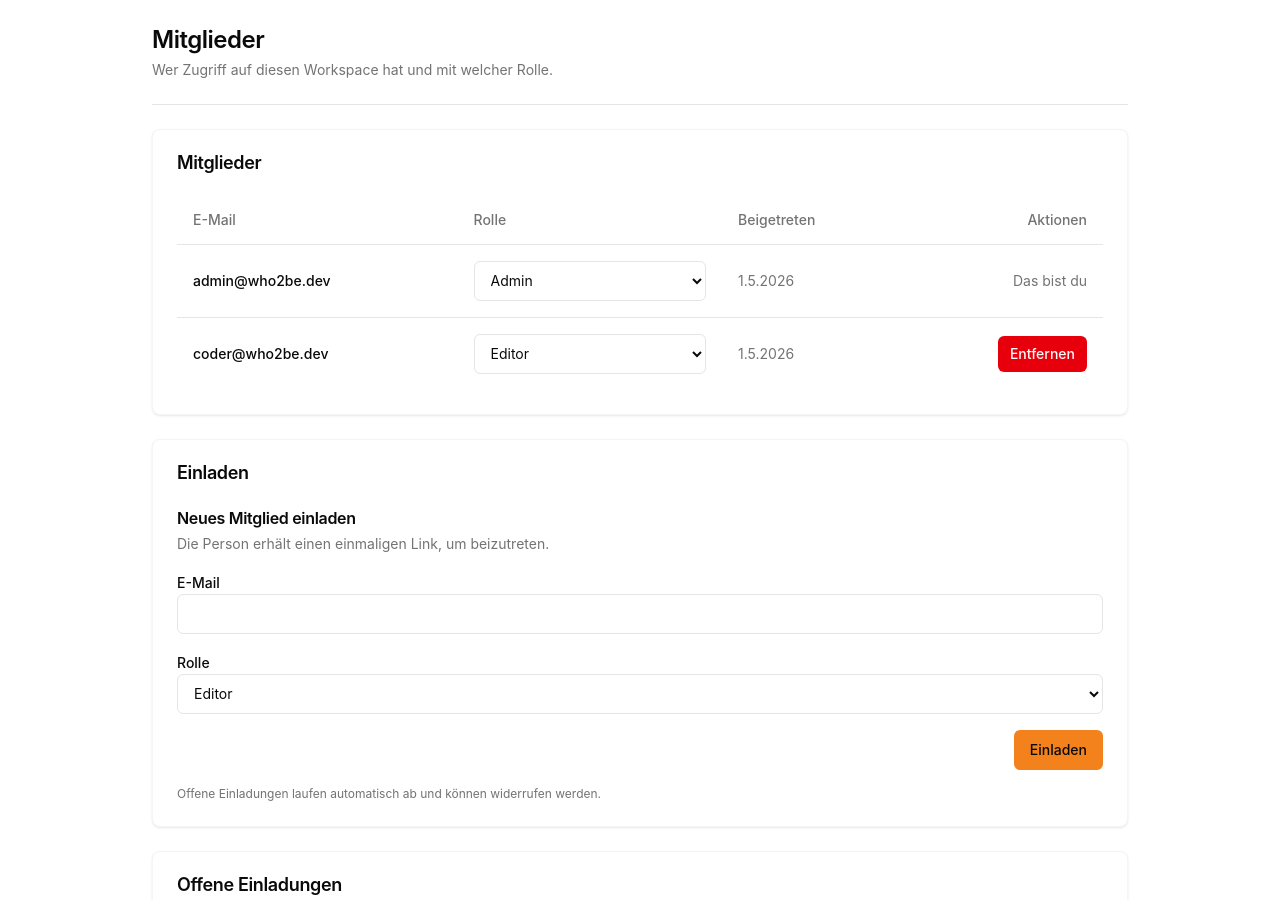
Test case: MembersPage — Mitglied entfernen › fragt vor dem Entfernen nach und nennt den Token-Widerruf
Click the button "Entfernen" at (1042, 354), box [998,336,1087,372]
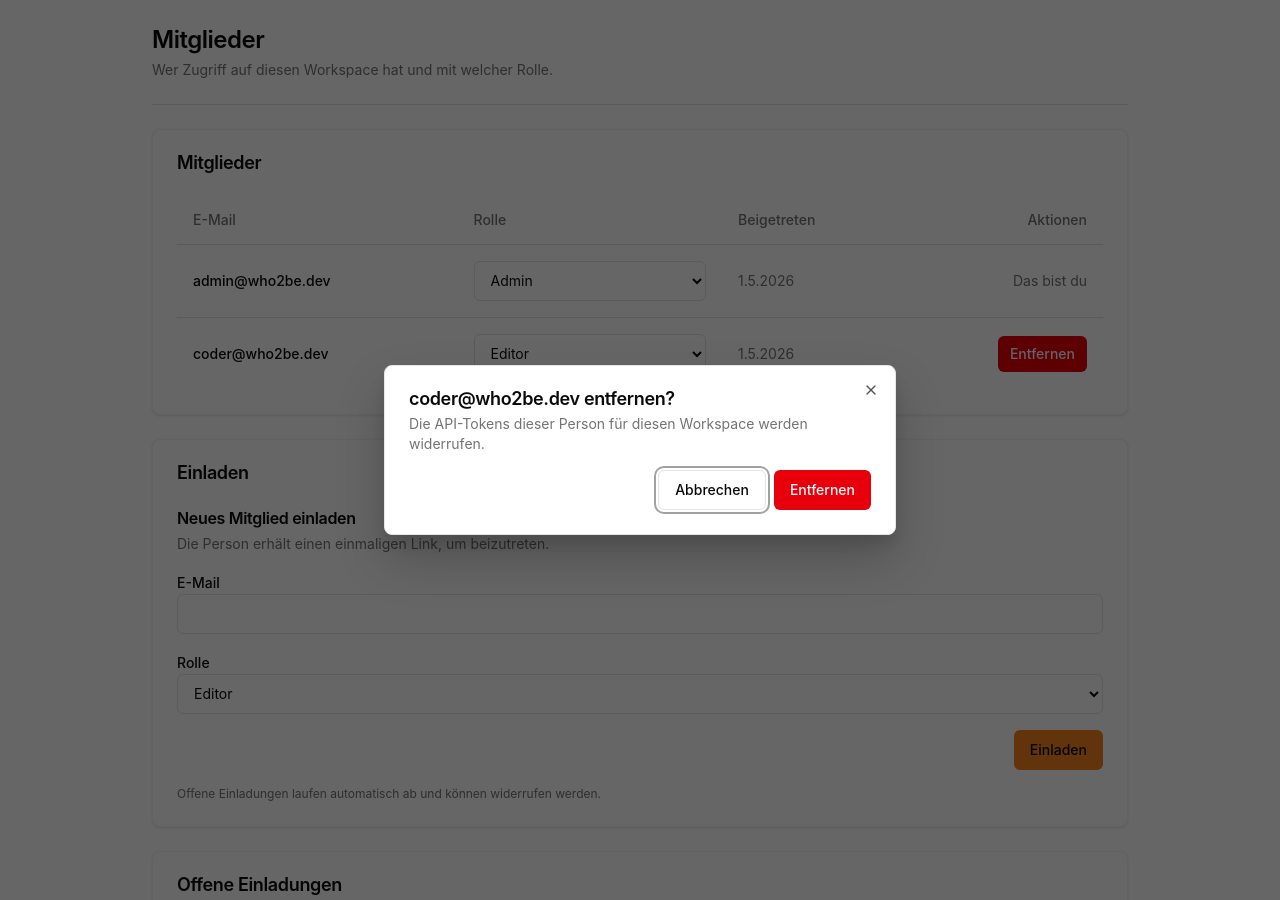
Check: the text "Die API-Tokens dieser Person für diesen Workspace werden widerrufen." is shown, box [409,414,871,454]
